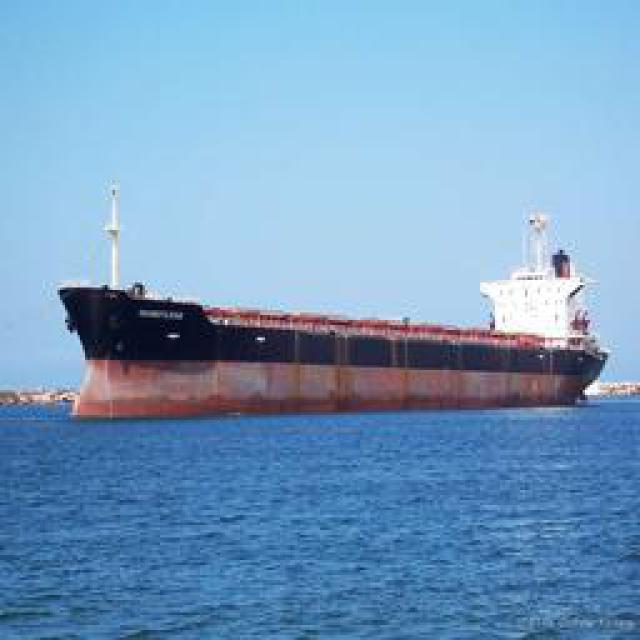Ship: (59, 209, 624, 419)
